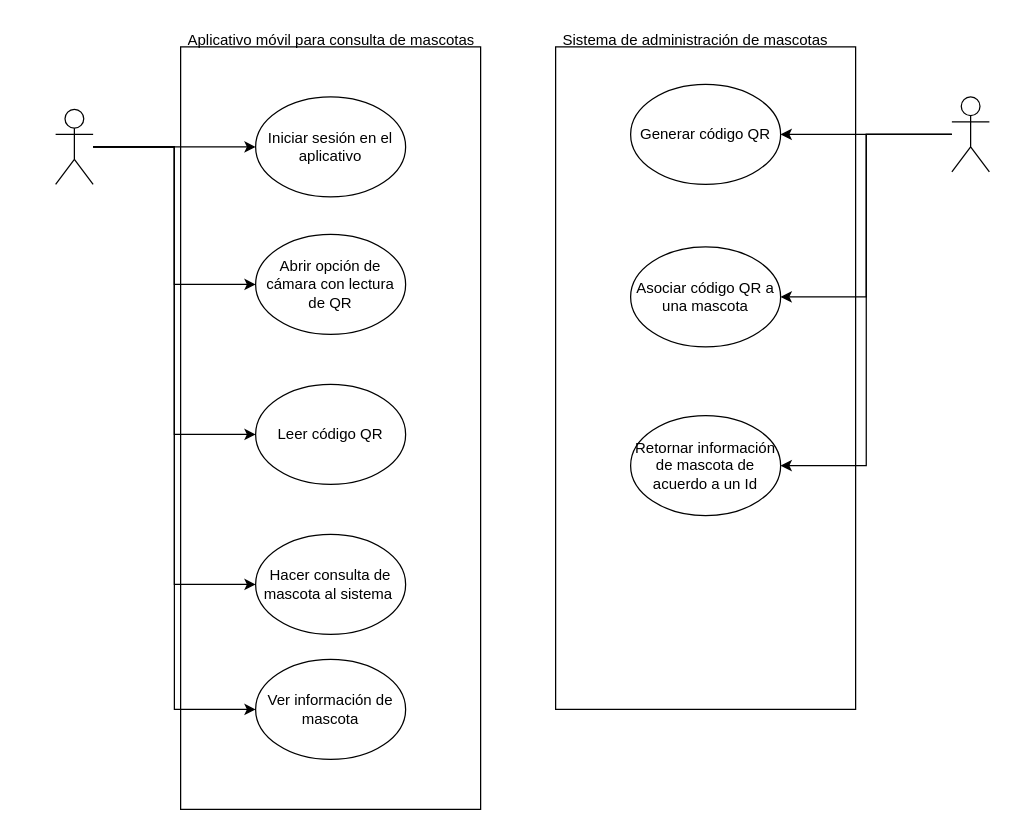
This 1019x831 diagram has some shape labels left out. Each missing label, with the centre of its shape:
"Dueño mascota" belongs at (x=73, y=146).
"Sistema" belongs at (x=970, y=134).
